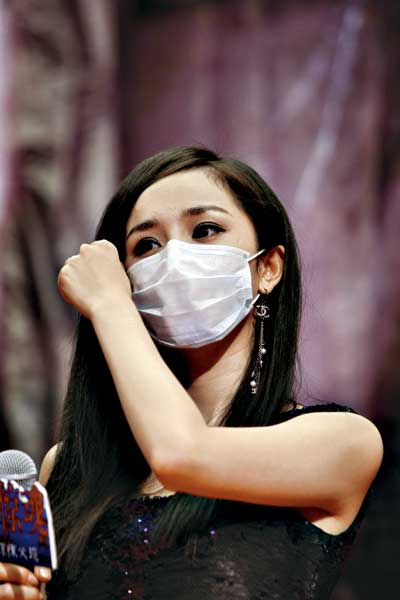face_mask: (129, 165, 253, 349)
